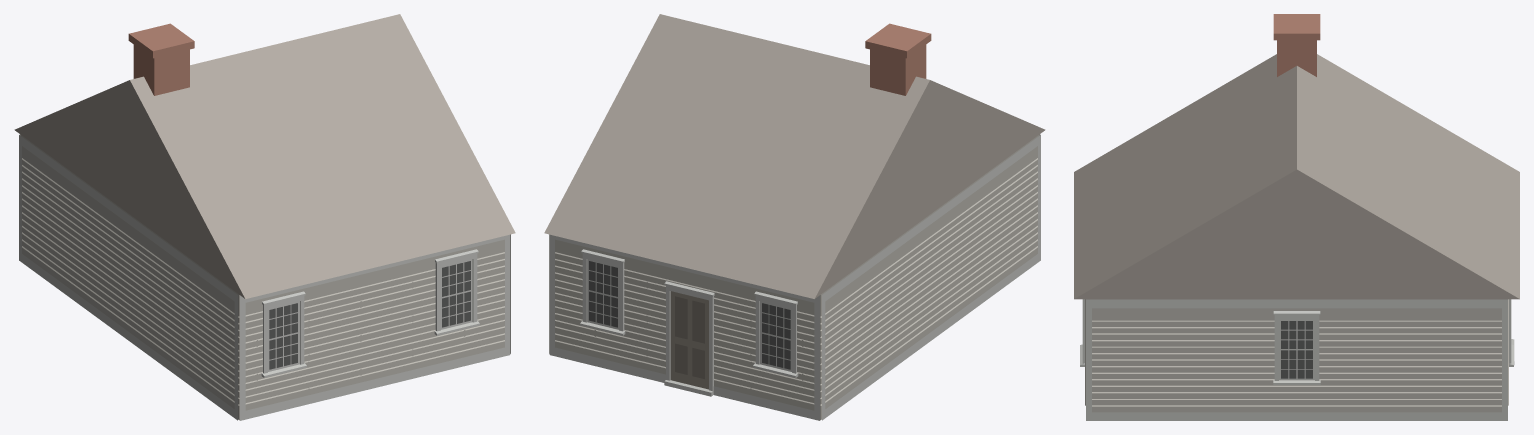
File: recon_1835_north_d5_078__inferred_1835.glb
The picture shows the model from 3 angles, left to right: view 1: azimuth 30°, elevation 25°; view 2: azimuth 150°, elevation 25°; view 3: azimuth 270°, elevation 25°; orthographic projection. The views are drawn at different scales.
Parts seen in each view (by area): view 1: recon_1835_north_d5_078__inferred_1835; view 2: recon_1835_north_d5_078__inferred_1835; view 3: recon_1835_north_d5_078__inferred_1835.
Part boxes in pixels (x1,y1,x2,y2): recon_1835_north_d5_078__inferred_1835: [14, 14, 515, 420]; recon_1835_north_d5_078__inferred_1835: [544, 14, 1045, 420]; recon_1835_north_d5_078__inferred_1835: [1074, 14, 1519, 420].
Size of the model in its own units: 6.51 by 6.63 by 9.41.
